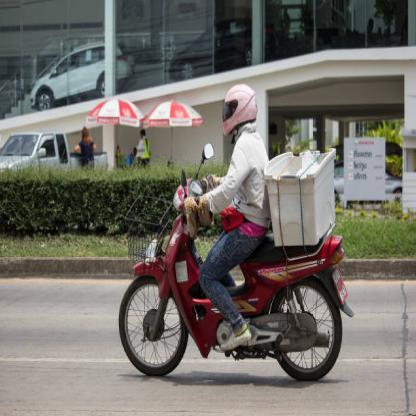Motorcycle: (118, 164, 356, 388)
